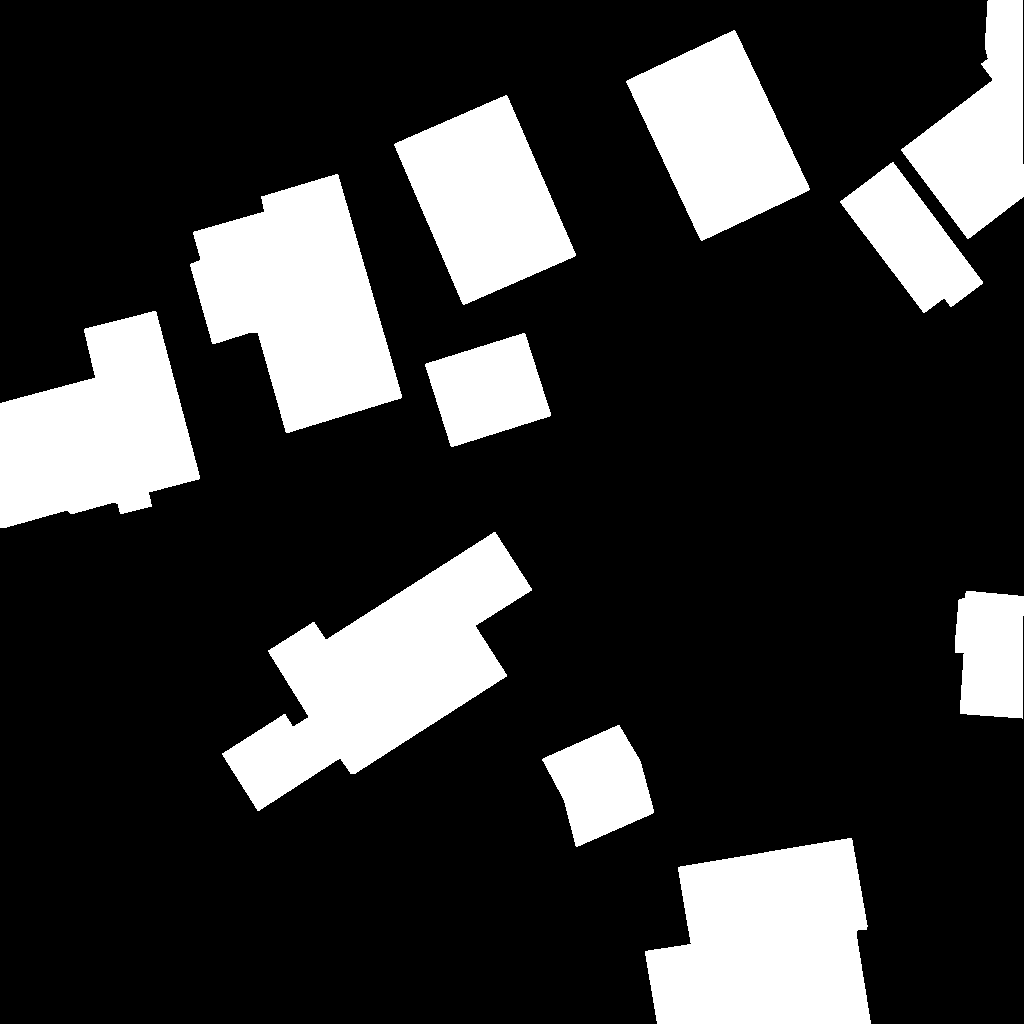building: (222, 532, 533, 812), (190, 174, 403, 434), (0, 311, 201, 529), (645, 838, 872, 1024), (626, 30, 811, 242), (394, 95, 577, 306), (901, 0, 1024, 240), (840, 162, 984, 314), (425, 333, 552, 448), (542, 725, 655, 848), (955, 591, 1024, 719)
